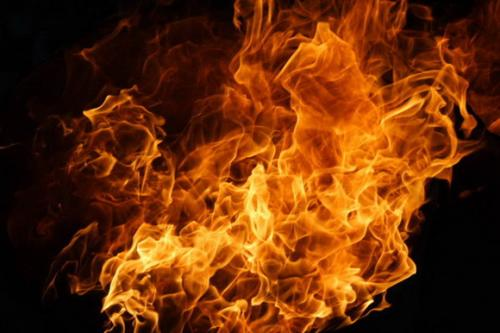fire: (93, 92, 381, 315)
